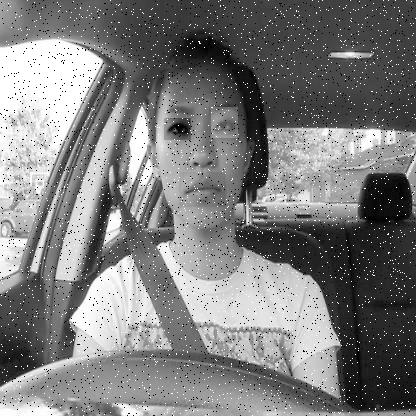seatbelt: (135, 26, 271, 354)
